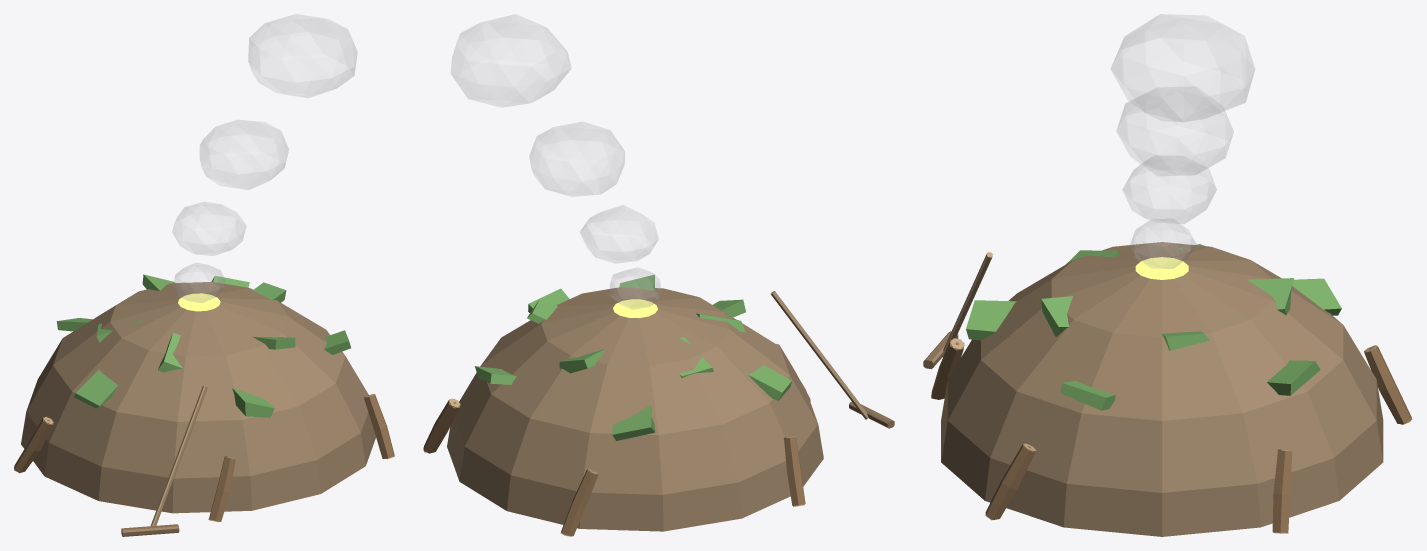
Rendered from asset_charcoal_clamp_burning.glb.
3 renders of one model, left to right at view 1: azimuth 30°, elevation 25°; view 2: azimuth 150°, elevation 25°; view 3: azimuth 270°, elevation 25°, orthographic. The views are drawn at different scales.
Visible parts, largest first — view 1: asset_charcoal_clamp_burning; view 2: asset_charcoal_clamp_burning; view 3: asset_charcoal_clamp_burning.
Part boxes in pixels (x1,y1,x2,y2): asset_charcoal_clamp_burning: [14, 14, 394, 536]; asset_charcoal_clamp_burning: [423, 14, 894, 536]; asset_charcoal_clamp_burning: [923, 14, 1412, 536].
Size of the model in its own units: 2.67 by 2.96 by 2.7.
